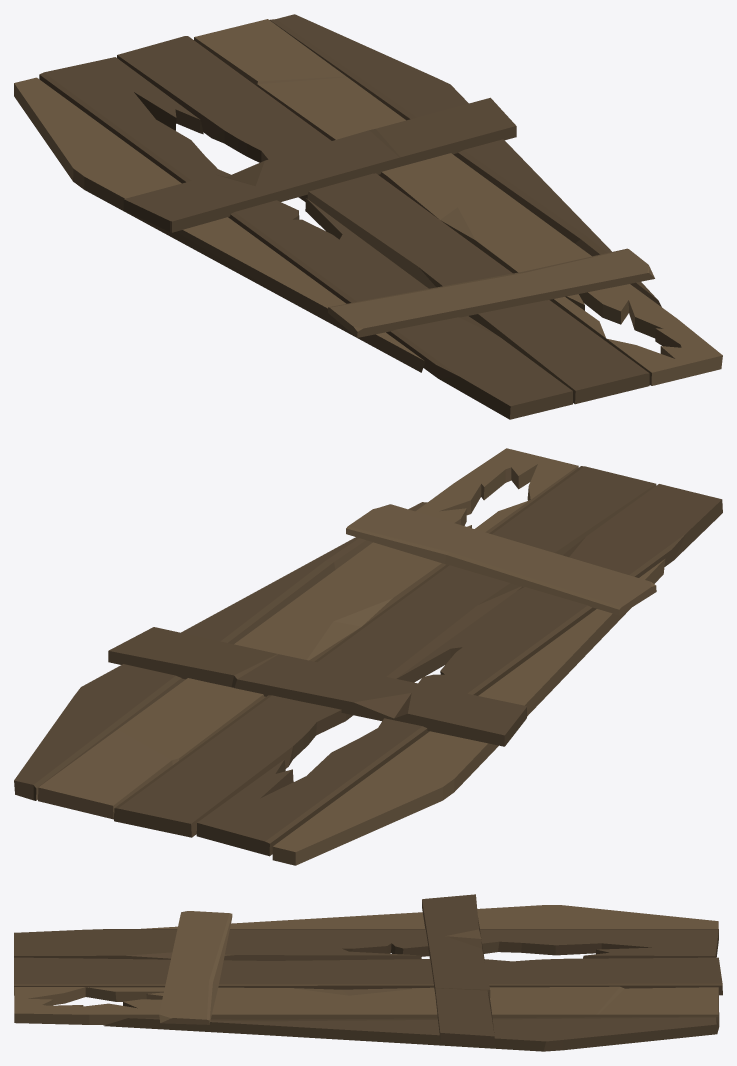
The model's file is WF_LP_HT_Props_CoffinDoor.002.fbx.
3 renders of one model, top to bottom at view 1: azimuth 30°, elevation 25°; view 2: azimuth 150°, elevation 25°; view 3: azimuth 270°, elevation 25°, orthographic. The views are drawn at different scales.
Parts seen in each view (by area): view 1: WF_LP_HT_Props_CoffinDoor.002; view 2: WF_LP_HT_Props_CoffinDoor.002; view 3: WF_LP_HT_Props_CoffinDoor.002.
Part boxes in pixels (x1=…): WF_LP_HT_Props_CoffinDoor.002: x1=14, y1=14, x2=722, y2=419; WF_LP_HT_Props_CoffinDoor.002: x1=14, y1=448, x2=722, y2=865; WF_LP_HT_Props_CoffinDoor.002: x1=14, y1=894, x2=722, y2=1051.
Bounding box in the file's own units: 1.05 × 0.069 × 2.21.
